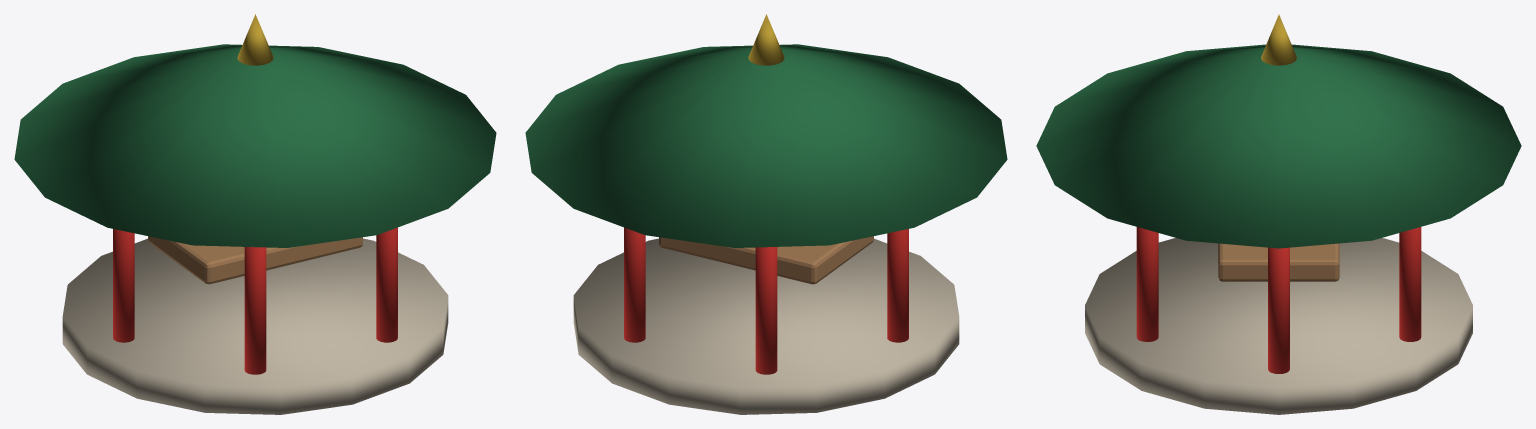
The model's file is pavilion.glb.
3 renders of one model, left to right at view 1: azimuth 30°, elevation 25°; view 2: azimuth 150°, elevation 25°; view 3: azimuth 270°, elevation 25°, orthographic.
Parts seen in each view (by area): view 1: pavilion; view 2: pavilion; view 3: pavilion.
Boxes of the visible parts, bbox=[...] form: pavilion: bbox=[14, 14, 496, 414]; pavilion: bbox=[525, 14, 1007, 414]; pavilion: bbox=[1036, 14, 1521, 414].
Size of the model in its own units: 0.8 by 0.58 by 0.8.
